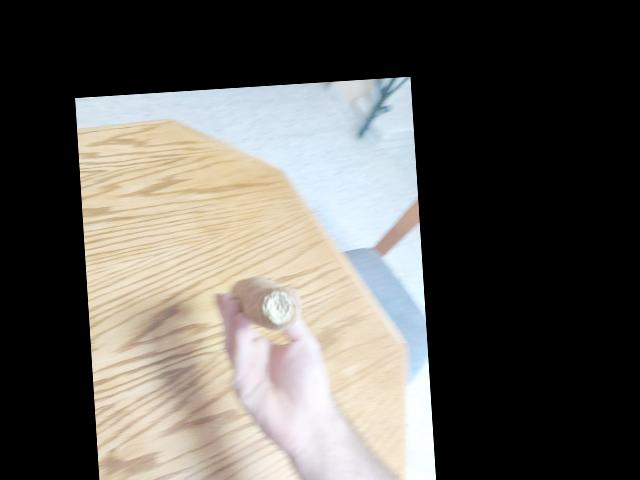sweet_potato: (225, 264, 311, 349)
